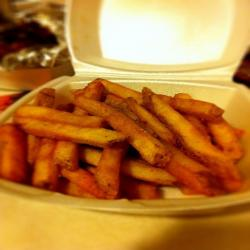fries: (1, 82, 246, 200)
